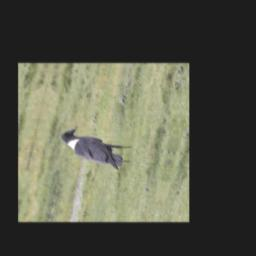Crow: (54, 128, 135, 171)
